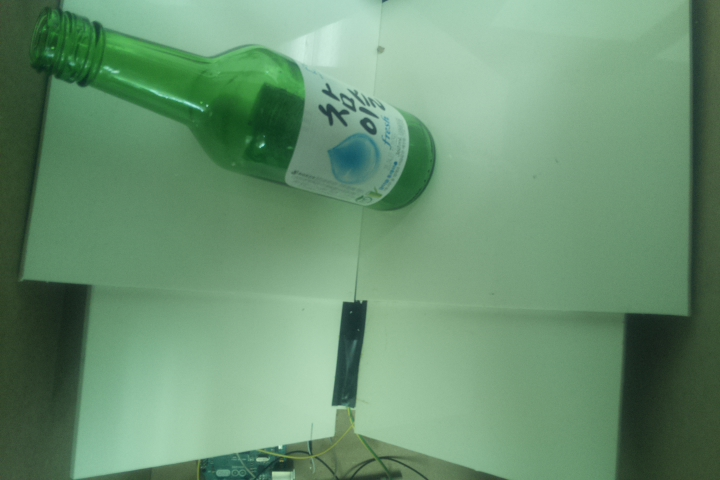soju: (25, 4, 439, 214)
